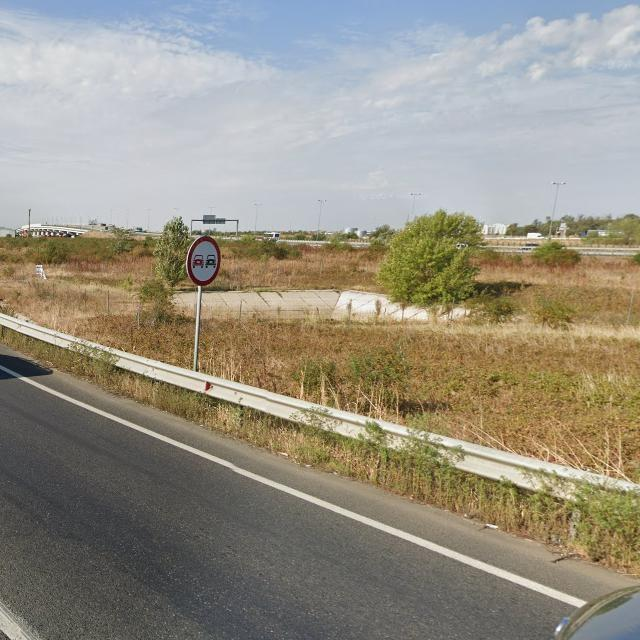forb_overtake: (186, 235, 222, 285)
